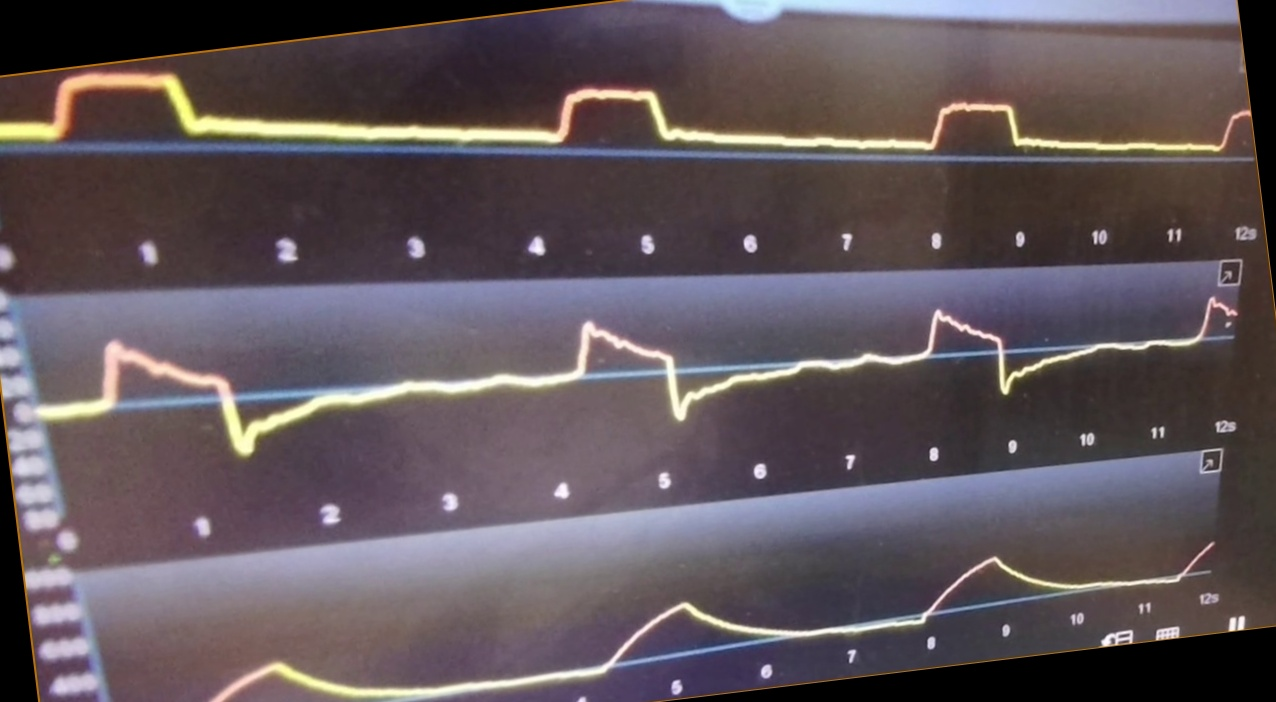Accumulation Flow: (53, 292, 1238, 455)
Volume: (190, 543, 1209, 702)
